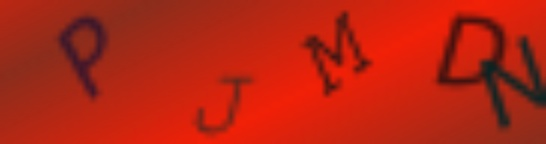D: (429, 11, 509, 88)
J: (188, 72, 254, 137)
M: (298, 7, 377, 98)
N: (479, 34, 546, 133)
P: (54, 14, 112, 102)
